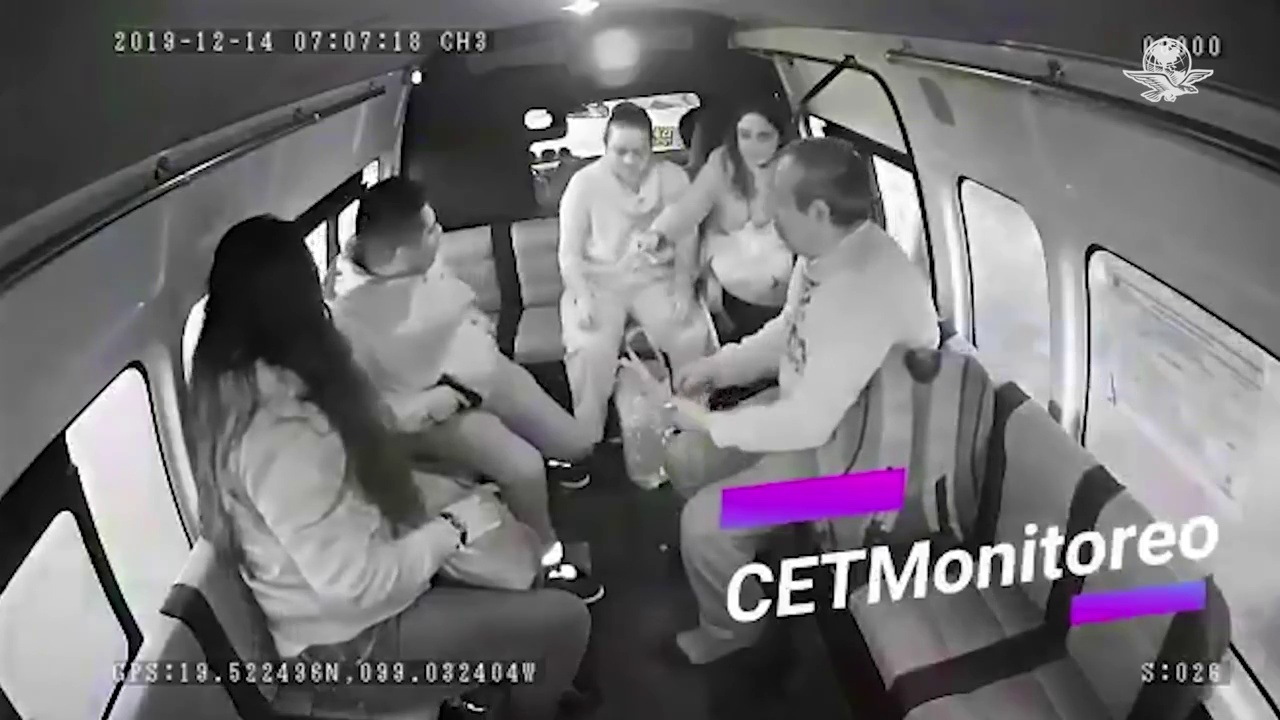pistol: (431, 371, 484, 424)
